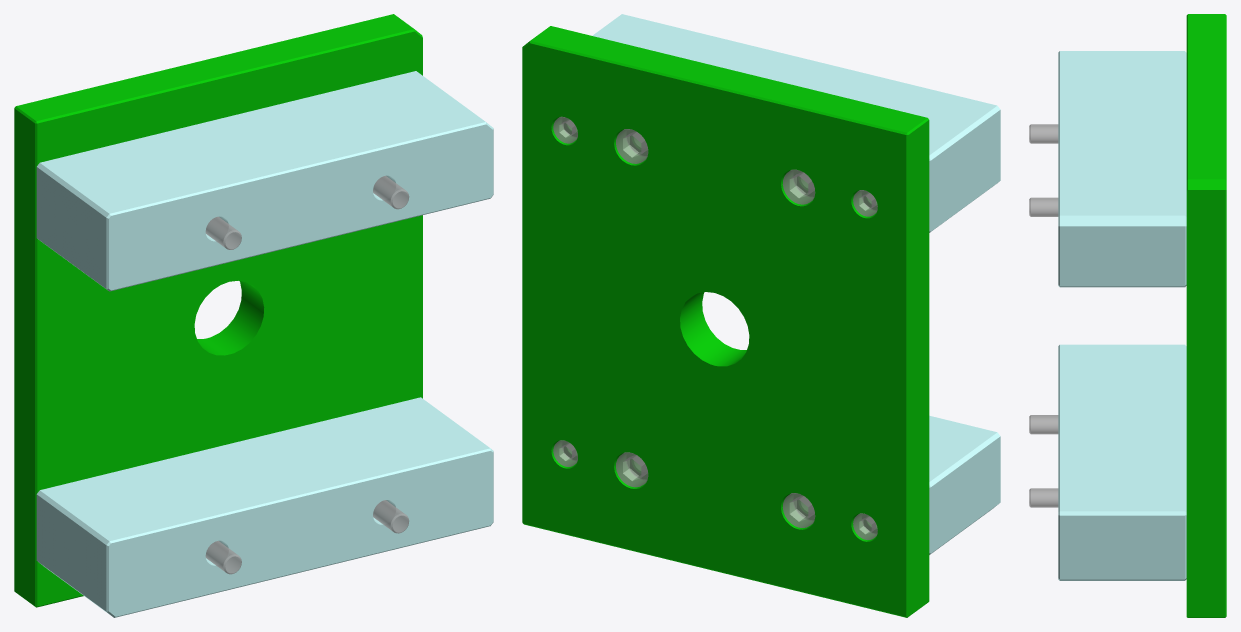
The picture shows the model from 3 angles, left to right: view 1: azimuth 30°, elevation 25°; view 2: azimuth 150°, elevation 25°; view 3: azimuth 270°, elevation 25°; orthographic projection. The views are drawn at different scales.
Parts seen in each view (by area): view 1: cardcase_l_plate_055, cardcase_cr_plate_058, cardcase_cl_plate_059, cardcase_screw_pll_053 (×4); view 2: cardcase_l_plate_055, cardcase_cr_plate_058, cardcase_cl_plate_059, cardcase_screw_pll_053 (×4); view 3: cardcase_cl_plate_059, cardcase_cr_plate_058, cardcase_l_plate_055, cardcase_screw_pll_053 (×4).
Boxes of the visible parts, box(x1,y1,x2,y2) form: cardcase_l_plate_055: box(14, 14, 422, 607); cardcase_cr_plate_058: box(36, 71, 493, 291); cardcase_cl_plate_059: box(36, 397, 493, 617); cardcase_screw_pll_053 (×4): box(205, 175, 409, 574); cardcase_l_plate_055: box(522, 26, 929, 617); cardcase_cr_plate_058: box(592, 14, 1000, 232); cardcase_cl_plate_059: box(929, 415, 1000, 554); cardcase_screw_pll_053 (×4): box(616, 129, 815, 527); cardcase_cl_plate_059: box(1058, 344, 1186, 580); cardcase_cr_plate_058: box(1058, 51, 1186, 287); cardcase_l_plate_055: box(1186, 14, 1226, 617); cardcase_screw_pll_053 (×4): box(1029, 124, 1058, 507).
Size of the model in its own units: 0.25 by 0.3 by 0.123.
